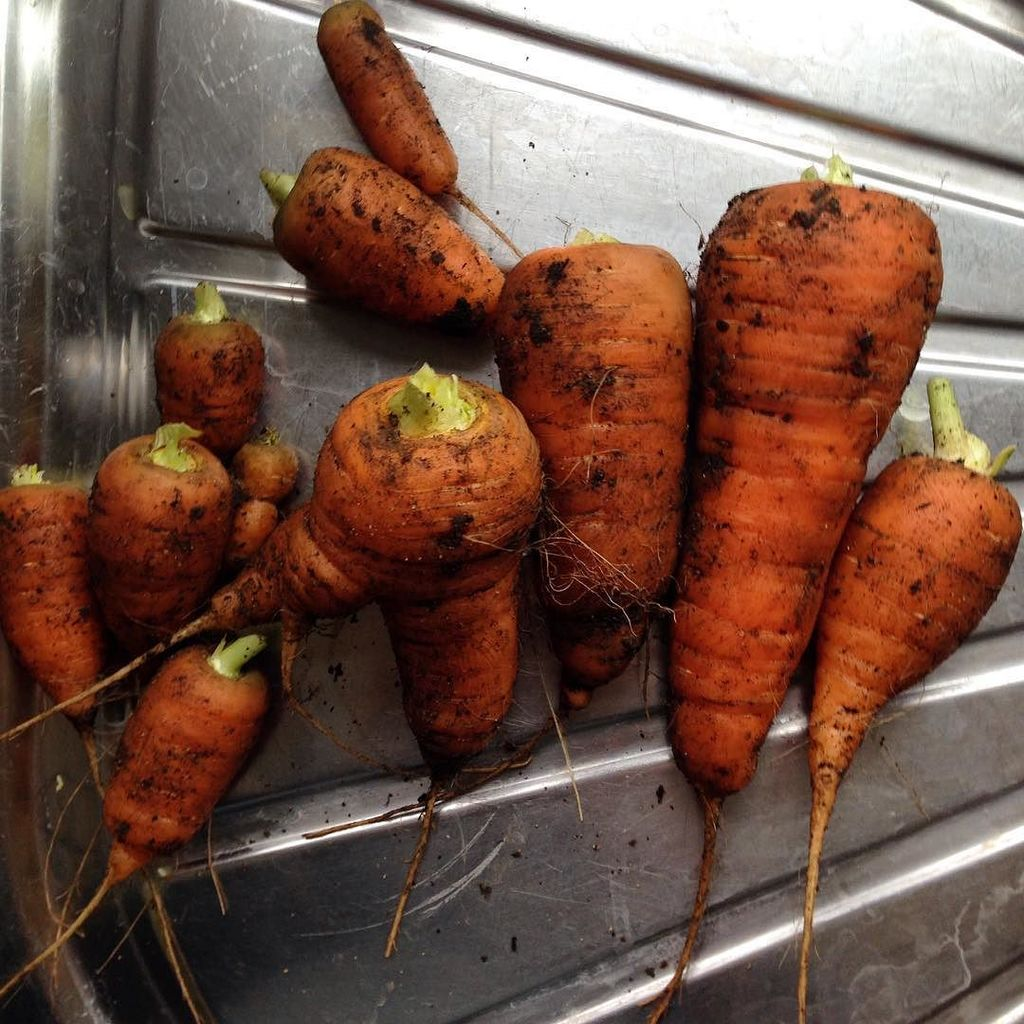Carrot: (0, 0, 1023, 1023)
